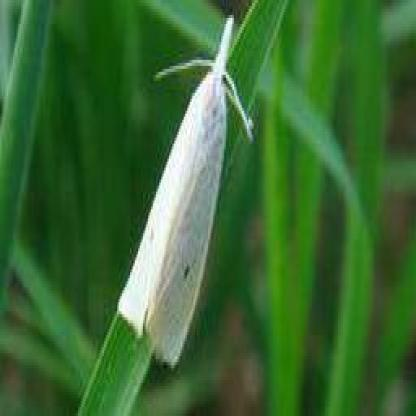stem-borer: (116, 12, 256, 378)
